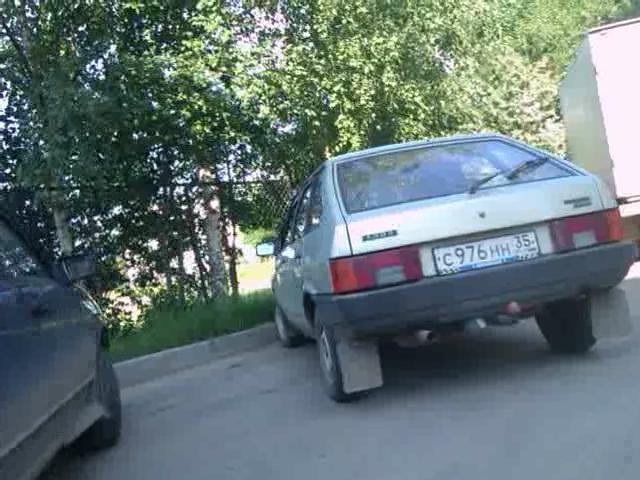car license plate: (432, 228, 539, 278)
